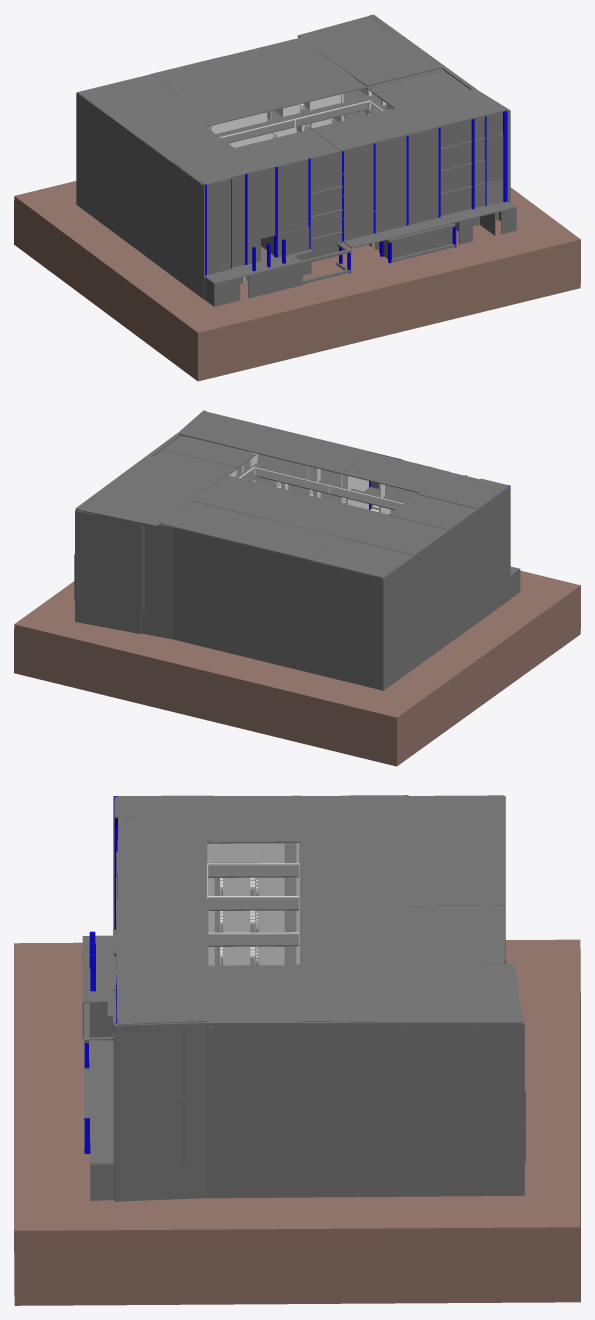
3 views of the same model, one above another, from view 1: azimuth 30°, elevation 25°; view 2: azimuth 150°, elevation 25°; view 3: azimuth 270°, elevation 25° (orthographic). The views are drawn at different scales.
Visible parts, largest first — view 1: Cube.132, Cube, Cube.709, Cube.717, Cube.712, Cube.719, Cube.720, Cube.708, Cube.716, Cube.707, Cube.663, Cube.659 (+36 smaller); view 2: Cube.132, Cube.053, Cube, Cube.088, Cube.709, Cube.717, Cube.712, Cube.086, Cube.719, Cube.708, Cube.716, Cube.707 (+7 smaller); view 3: Cube.132, Cube.091, Cube.095, Cube.709, Cube.717, Cube.712, Cube.719, Cube.708, Cube.716, Cube.707, Cube.663, Cube.713 (+11 smaller).
Part boxes in pixels (box(x1,y1,x2,y2)): Cube.132: box(14, 181, 580, 381); Cube: box(76, 92, 204, 299); Cube.709: box(297, 15, 444, 86); Cube.717: box(311, 89, 508, 151); Cube.712: box(108, 60, 353, 131); Cube.719: box(130, 77, 371, 141); Cube.720: box(310, 150, 341, 257); Cube.708: box(224, 37, 330, 78); Cube.716: box(232, 129, 340, 170); Cube.707: box(151, 56, 254, 96); Cube.663: box(77, 74, 180, 114); Cube.659: box(216, 95, 381, 143); Cube.132: box(14, 570, 580, 766); Cube.053: box(172, 527, 382, 690); Cube: box(382, 485, 510, 690); Cube.088: box(75, 510, 141, 633); Cube.709: box(75, 455, 226, 526); Cube.717: box(178, 411, 371, 473); Cube.712: box(191, 484, 436, 555); Cube.086: box(141, 524, 173, 639); Cube.719: box(214, 475, 448, 538); Cube.708: box(159, 501, 266, 542); Cube.716: box(341, 452, 450, 492); Cube.707: box(236, 519, 340, 560); Cube.132: box(14, 939, 580, 1305); Cube.091: box(206, 1019, 521, 1198); Cube.095: box(113, 1021, 206, 1201); Cube.709: box(301, 962, 522, 1024); Cube.717: box(116, 898, 208, 1024); Cube.712: box(340, 795, 408, 962); Cube.719: box(299, 796, 340, 967); Cube.708: box(408, 905, 504, 963); Cube.716: box(117, 839, 207, 898); Cube.707: box(408, 850, 504, 906); Cube.663: box(408, 795, 504, 850); Cube.713: box(207, 795, 301, 843).
Size of the model in its own units: 10.2 by 4.18 by 8.5.
